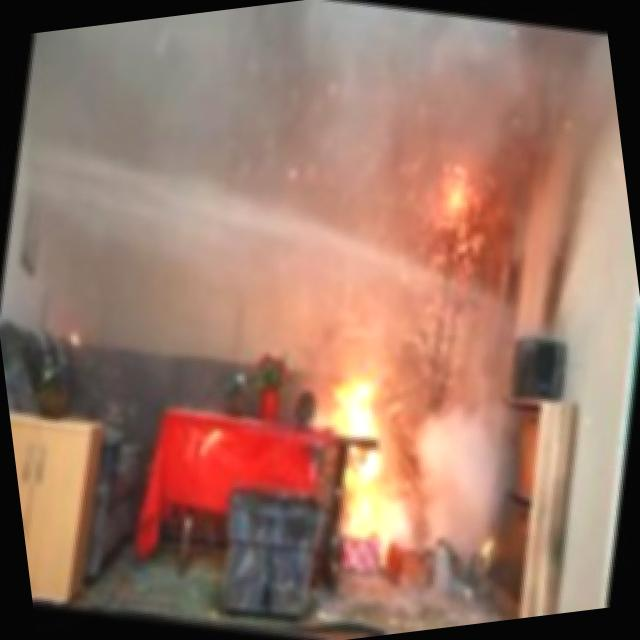fire: (294, 362, 417, 532)
smoke: (348, 290, 554, 555)
